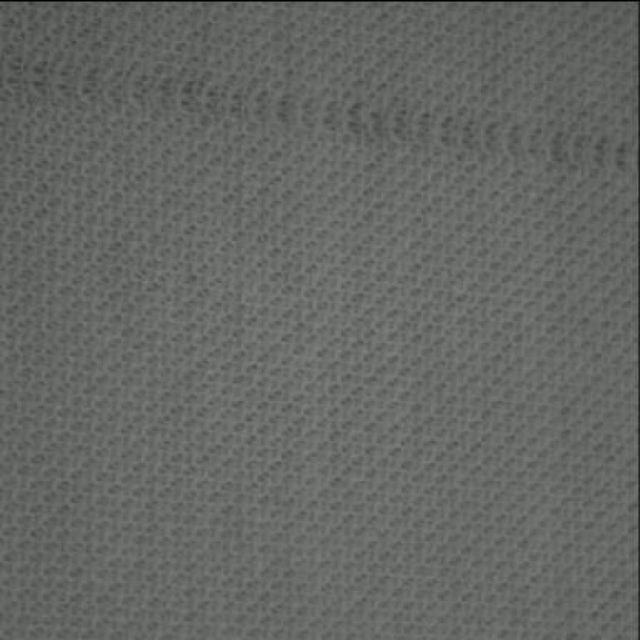Line: (5, 55, 632, 178)
